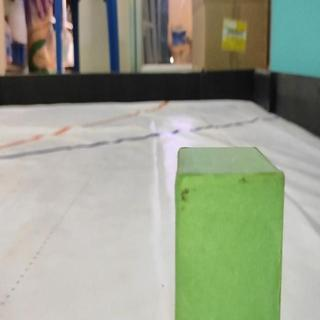greenbox: (173, 143, 287, 320)
